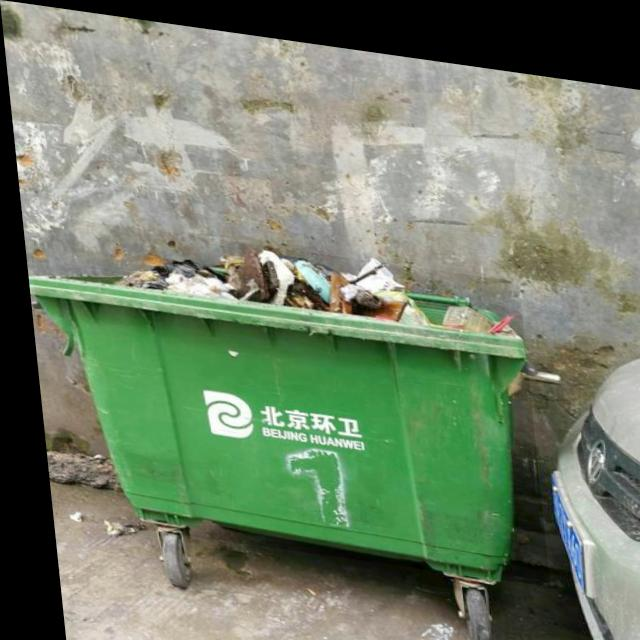overflow: (17, 212, 539, 572)
